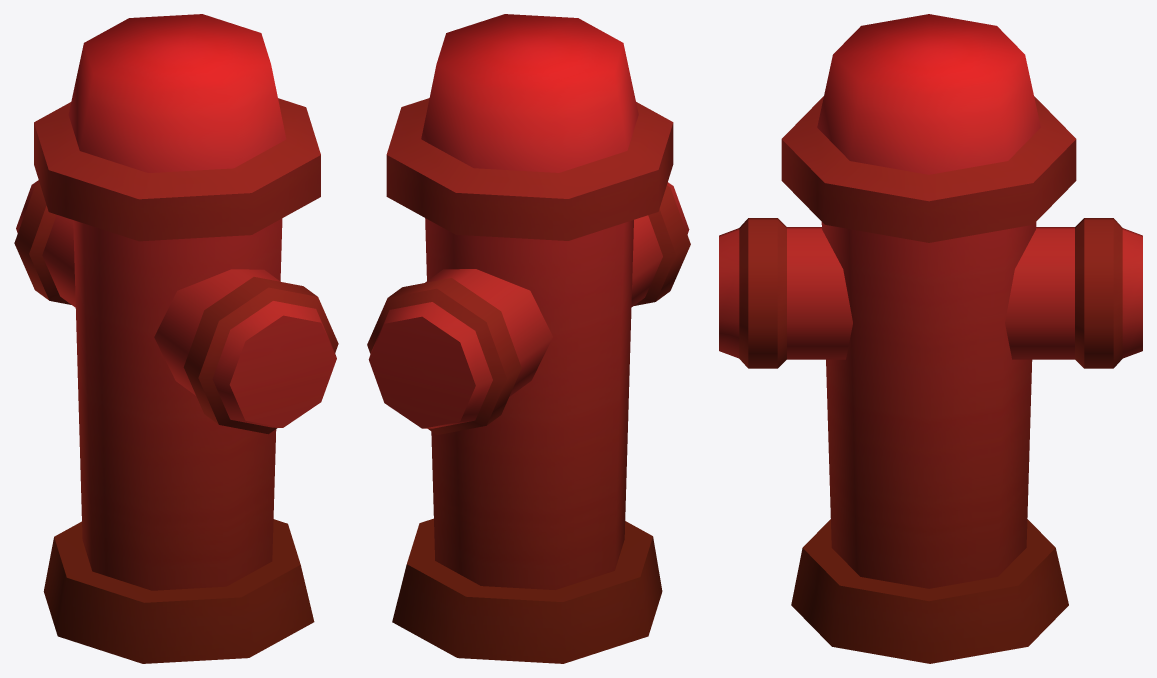
File: Hydrant.glb
The picture shows the model from 3 angles, left to right: view 1: azimuth 30°, elevation 25°; view 2: azimuth 150°, elevation 25°; view 3: azimuth 270°, elevation 25°; orthographic projection.
Visible parts, largest first — view 1: Hydrant; view 2: Hydrant; view 3: Hydrant.
Boxes of the visible parts, x1,y1,x2,y2 form: Hydrant: [14, 14, 338, 663]; Hydrant: [367, 14, 690, 663]; Hydrant: [719, 14, 1142, 663].
Bounding box in the file's own units: 0.4127 × 0.8565 × 0.5933.
1 material, 1 textured.
